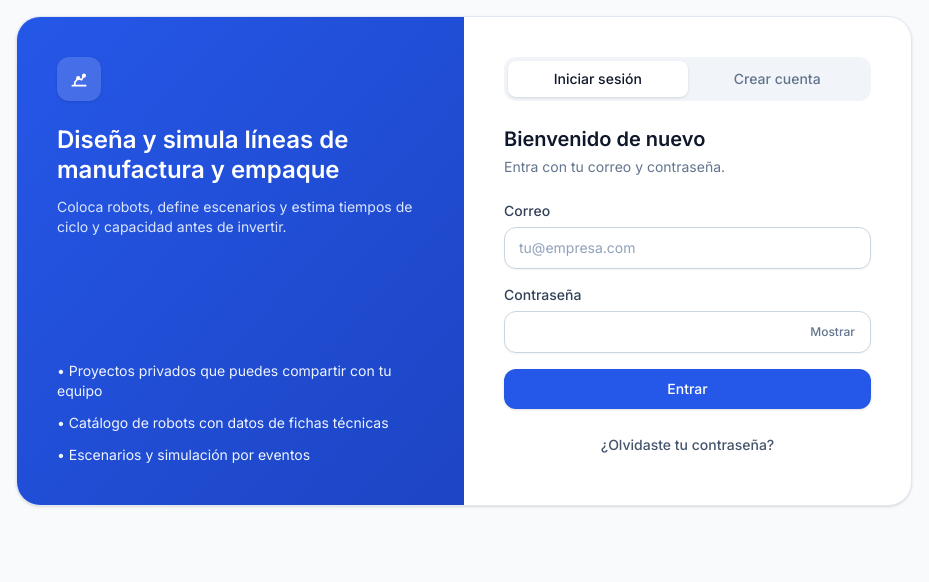
it: muestra un error genérico si las credenciales fallan
This screenshot has width=929, height=582.
In the field labelled "Correo": [688, 248] box 504,227 -> 871,269, type "a@b.mx"
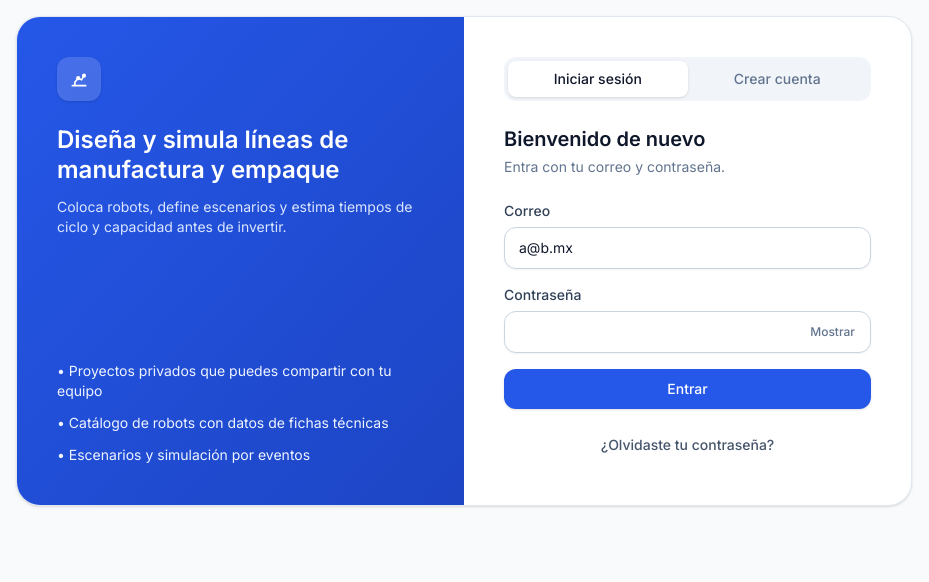
In the password field labelled "Contraseña": [688, 332] box 504,311 -> 871,353, type "x"
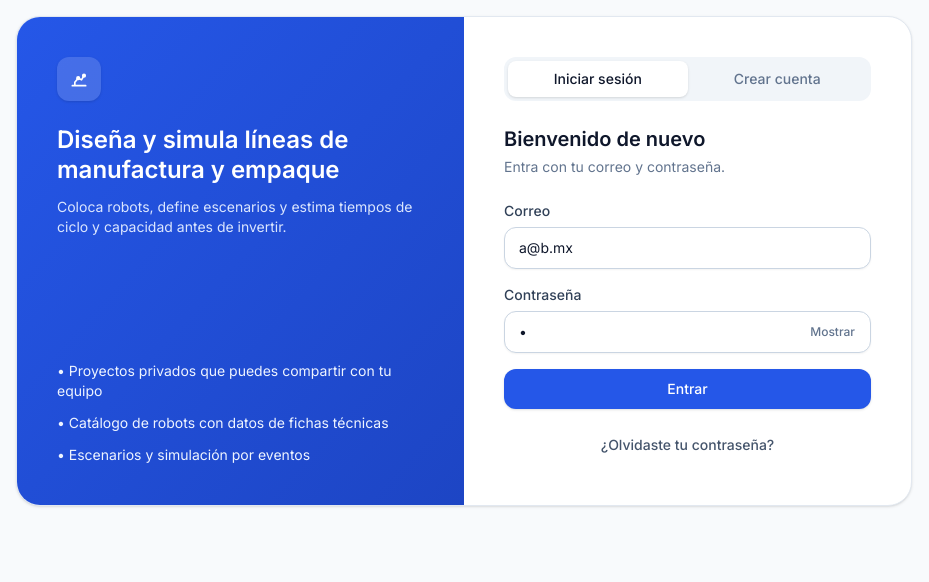
Click the button "Entrar": [688, 389] box 504,369 -> 871,409
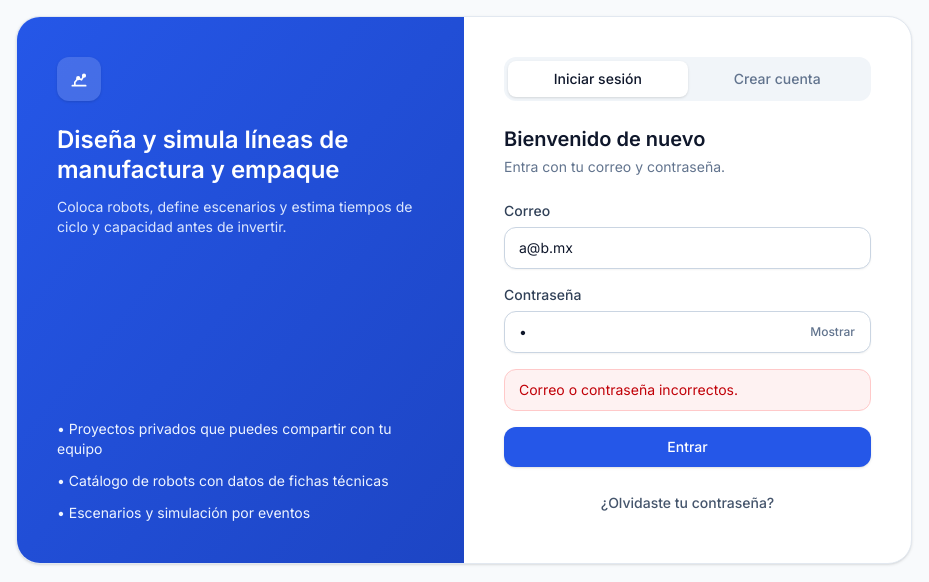
Now the message reads "Correo o contraseña incorrectos.", box 519,381 -> 738,398
